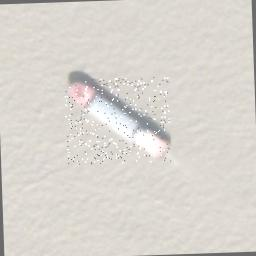boat: (64, 77, 172, 165)
